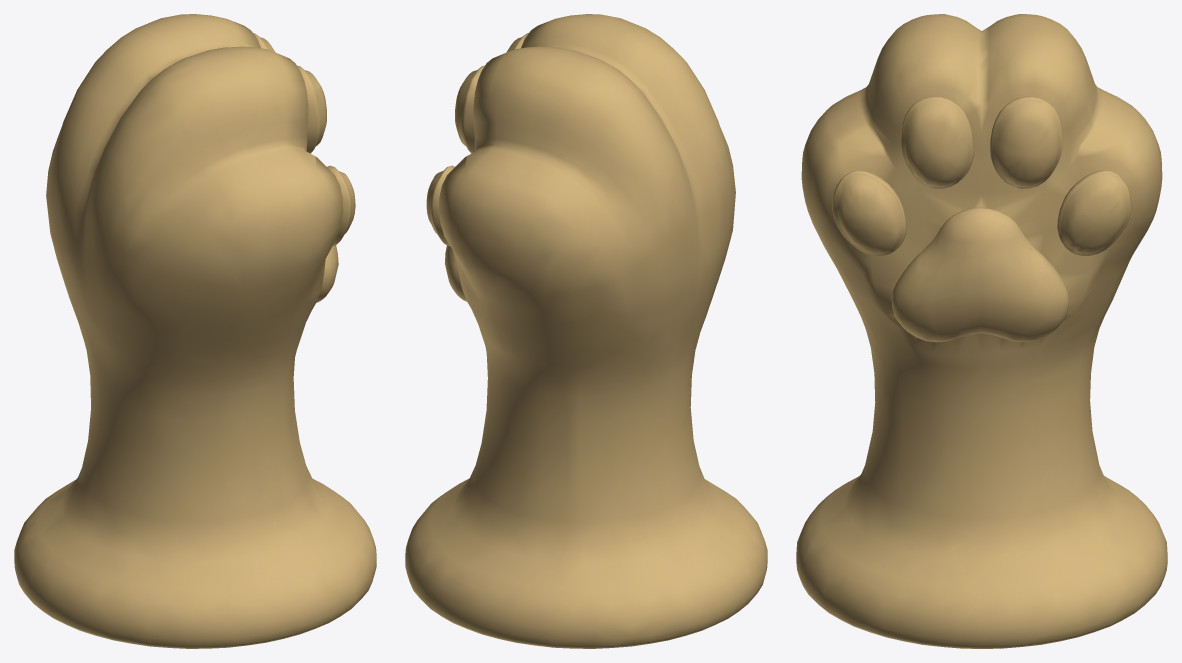
File: actor-golden-paw-award.glb
The picture shows the model from 3 angles, left to right: view 1: azimuth 30°, elevation 25°; view 2: azimuth 150°, elevation 25°; view 3: azimuth 270°, elevation 25°; orthographic projection. The views are drawn at different scales.
Parts seen in each view (by area): view 1: tripo_node_e48a6b4a-824a-4cd6-9c14-309d415b5849; view 2: tripo_node_e48a6b4a-824a-4cd6-9c14-309d415b5849; view 3: tripo_node_e48a6b4a-824a-4cd6-9c14-309d415b5849.
Boxes of the visible parts, x1,y1,x2,y2 form: tripo_node_e48a6b4a-824a-4cd6-9c14-309d415b5849: [14, 14, 376, 648]; tripo_node_e48a6b4a-824a-4cd6-9c14-309d415b5849: [405, 14, 767, 648]; tripo_node_e48a6b4a-824a-4cd6-9c14-309d415b5849: [796, 14, 1167, 648].
Bounding box in the file's own units: 0.6079 × 0.9995 × 0.6079.
Materials: 1 (1 with a texture image).
